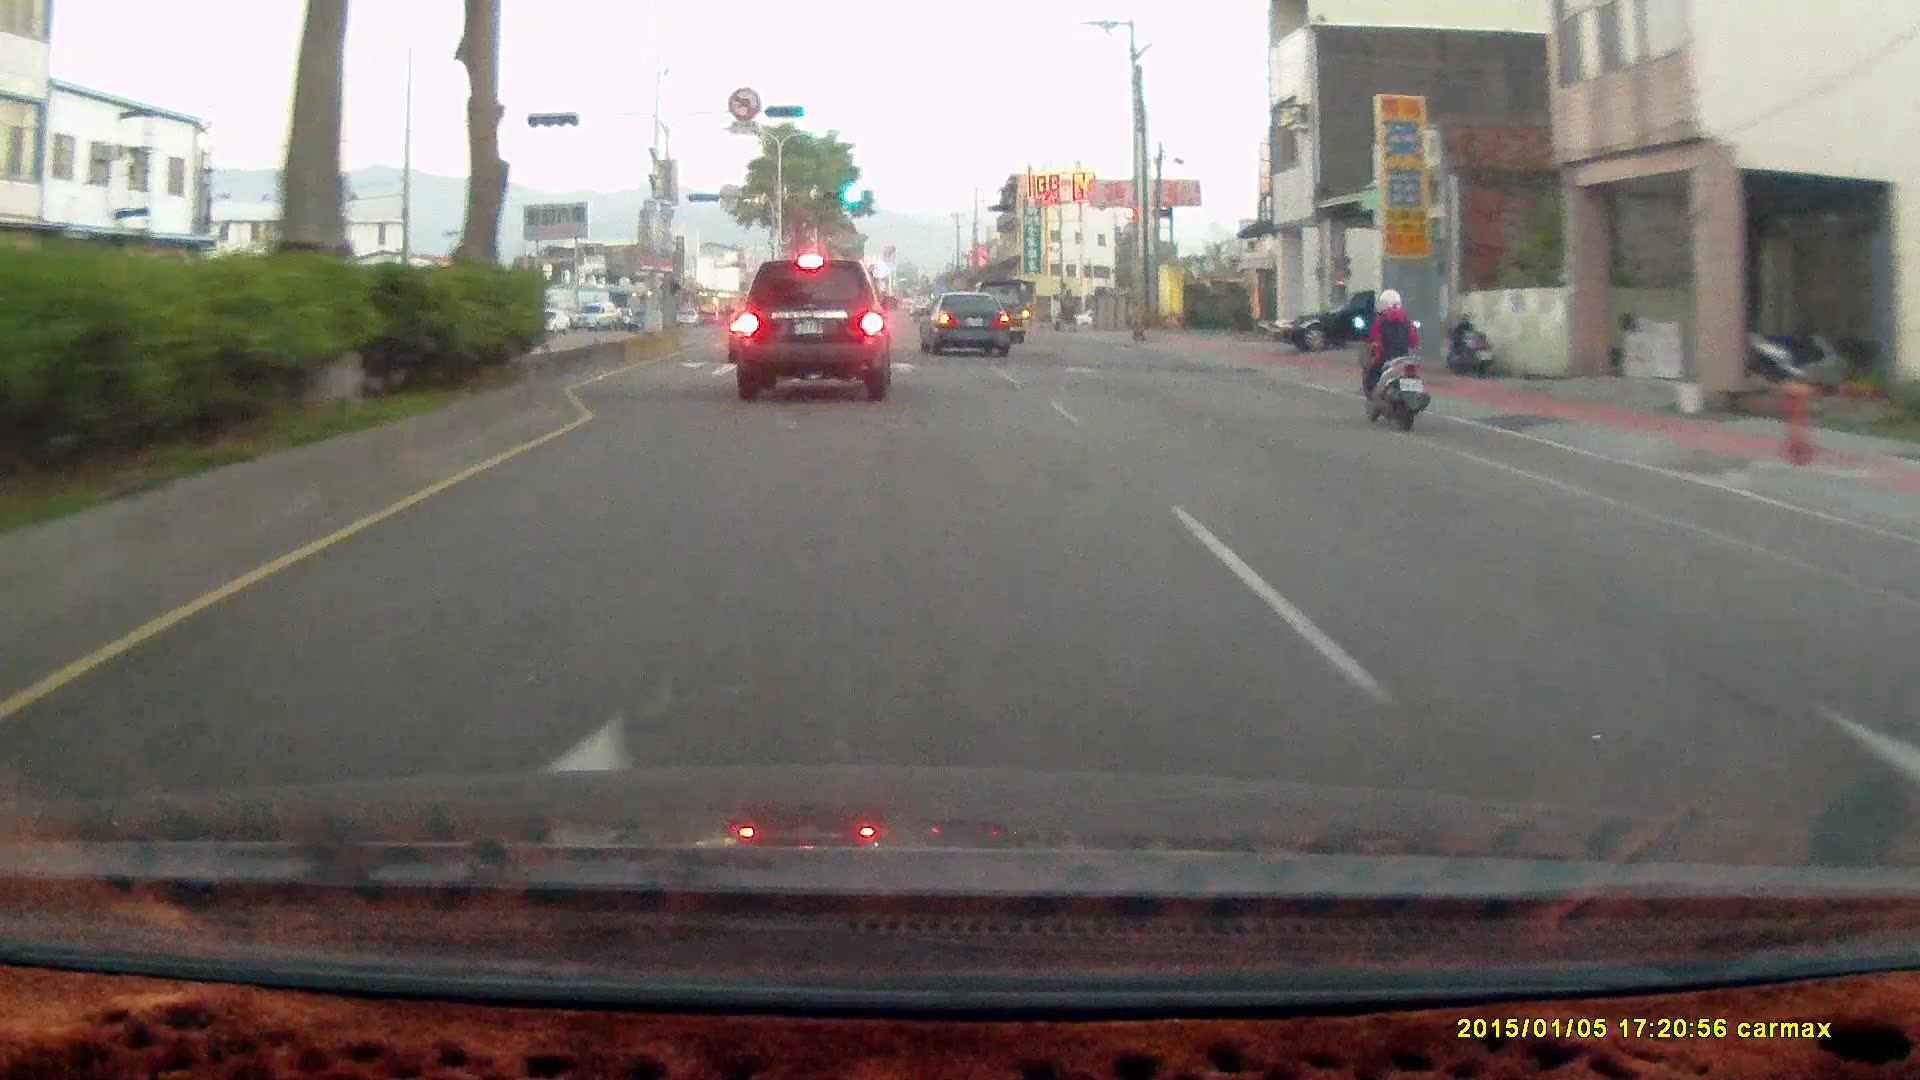rider: (1345, 277, 1442, 440), (1352, 285, 1431, 430)
vehicle: (727, 261, 890, 411), (734, 258, 896, 400), (1273, 283, 1461, 351), (1275, 290, 1384, 353), (920, 292, 1014, 357), (919, 289, 1009, 354), (570, 301, 618, 331), (533, 308, 571, 334)
